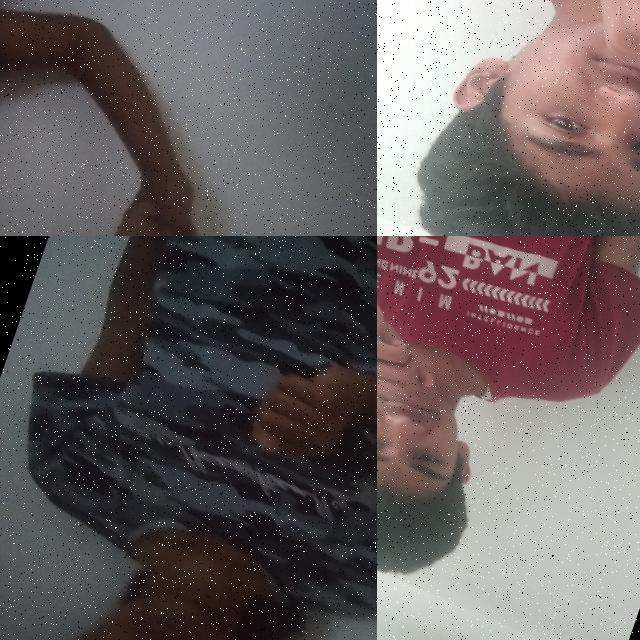Corna: (79, 137, 231, 236)
Dulya: (233, 324, 377, 486)
Fist Mouth: (395, 0, 640, 236), (377, 256, 538, 589)
